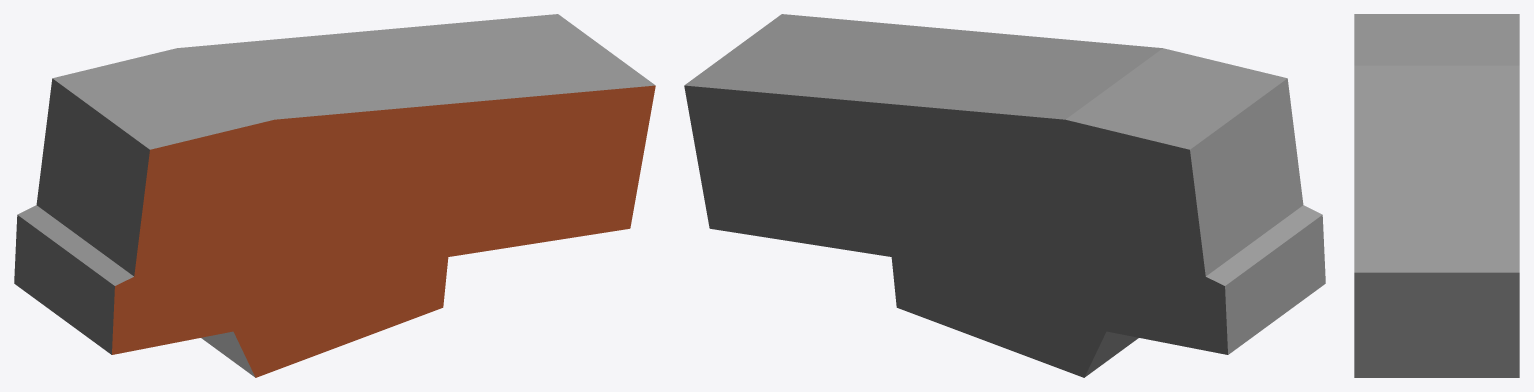
File: construction_1122_assumed_A_Casa_h6m.obj
3 views of the same model, side by side, from view 1: azimuth 30°, elevation 25°; view 2: azimuth 150°, elevation 25°; view 3: azimuth 270°, elevation 25° (orthographic). The views are drawn at different scales.
Parts seen in each view (by area): view 1: construction_1122_assumed_A_Casa; view 2: construction_1122_assumed_A_Casa; view 3: construction_1122_assumed_A_Casa.
Boxes of the visible parts, x1,y1,x2,y2 form: construction_1122_assumed_A_Casa: [14, 14, 655, 377]; construction_1122_assumed_A_Casa: [684, 14, 1325, 377]; construction_1122_assumed_A_Casa: [1354, 14, 1519, 377].
Size of the model in its own units: 19.28 by 8.6 by 6.
